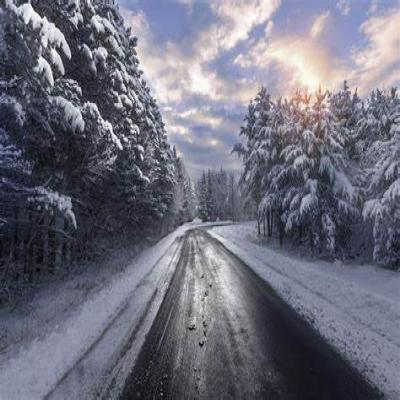iced-road: (46, 230, 382, 399)
